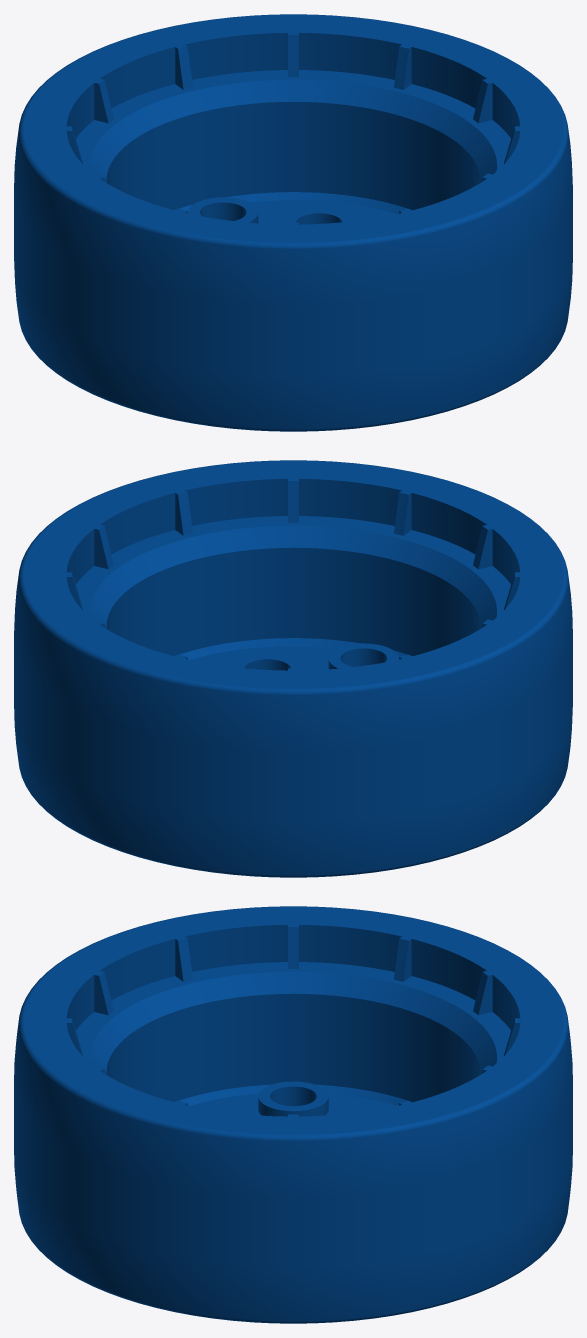
3 views of the same model, one above another, from view 1: azimuth 30°, elevation 25°; view 2: azimuth 150°, elevation 25°; view 3: azimuth 270°, elevation 25° (orthographic).
Parts seen in each view (by area): view 1: 228-2500-1384; view 2: 228-2500-1384; view 3: 228-2500-1384.
Boxes of the visible parts, x1,y1,x2,y2 form: 228-2500-1384: [14, 14, 572, 431]; 228-2500-1384: [14, 460, 572, 877]; 228-2500-1384: [14, 906, 572, 1323].
Size of the model in its own units: 0.0505 by 0.0188 by 0.0505.
